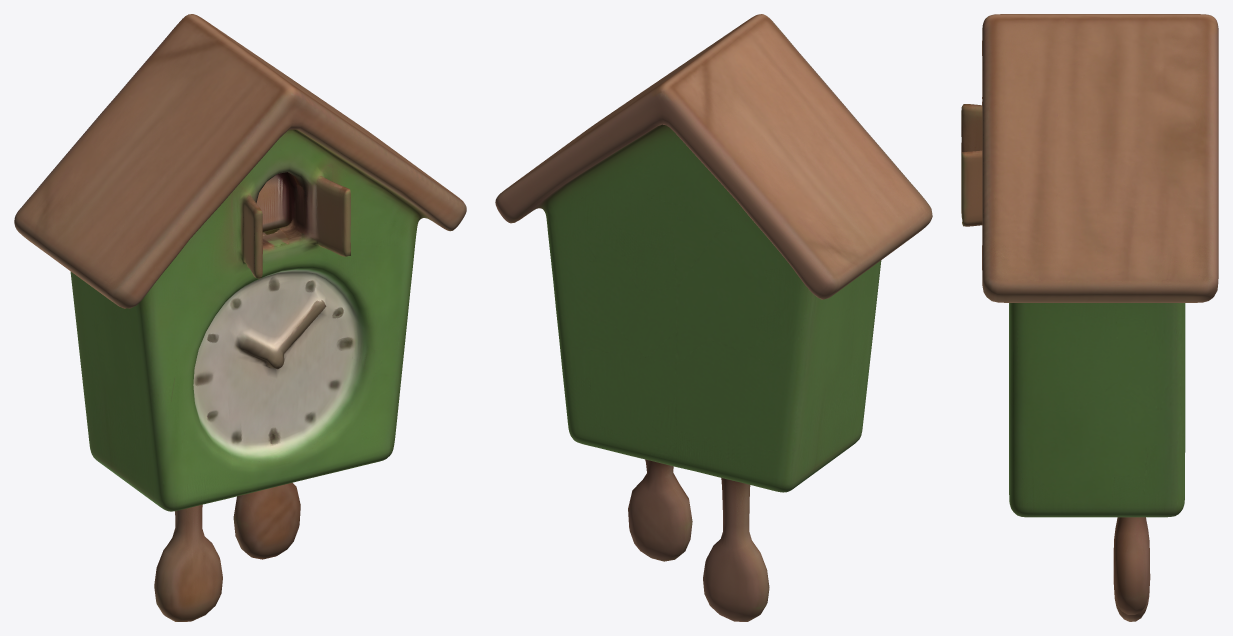
File: Green_Cuckoo_Clock.glb
3 views of the same model, side by side, from view 1: azimuth 30°, elevation 25°; view 2: azimuth 150°, elevation 25°; view 3: azimuth 270°, elevation 25° (orthographic). The views are drawn at different scales.
Size of the model in its own units: 1.25 by 1.91 by 0.7157.
1 material, 1 textured.
